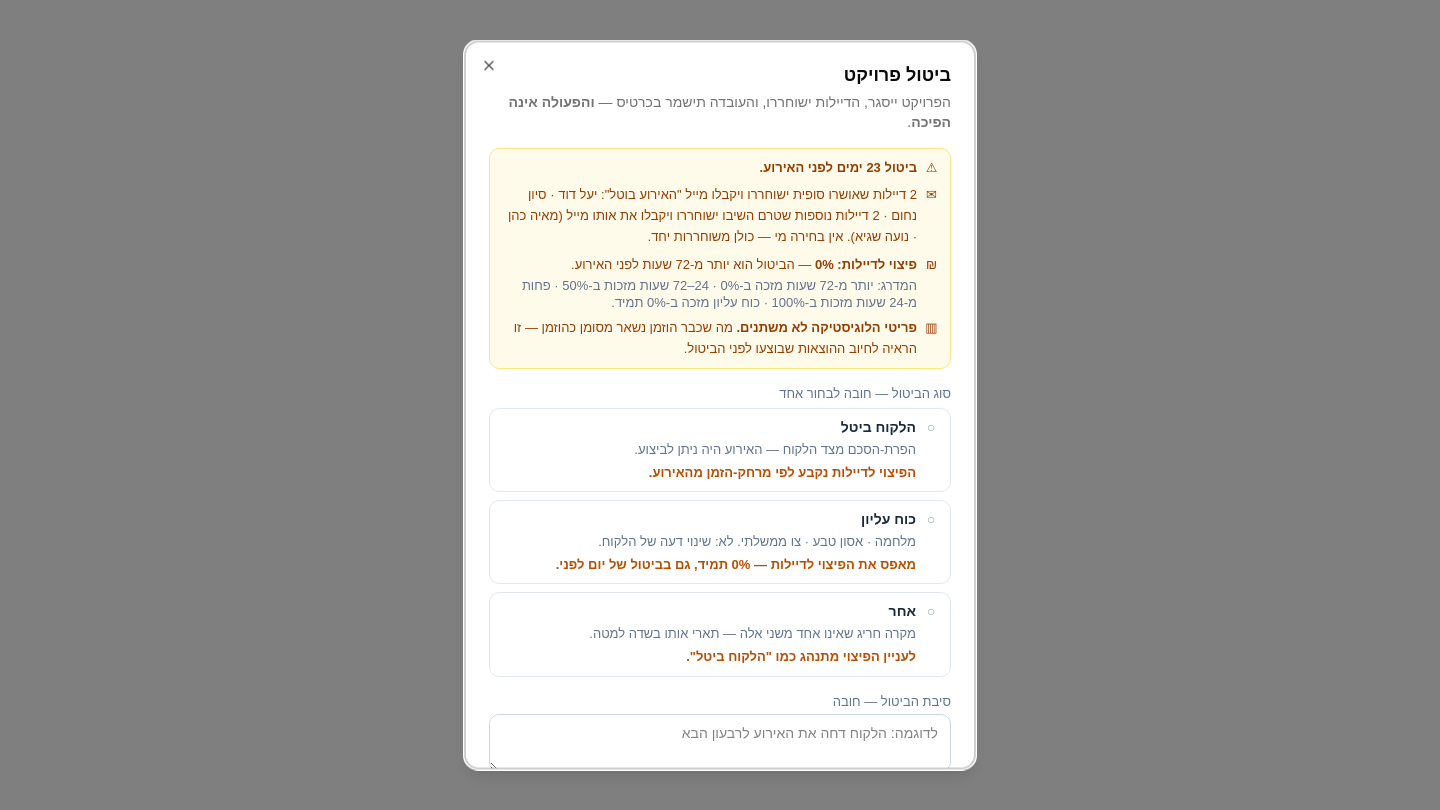
CancelProjectDialog — שלושת הסוגים והוולידציה › כוח-עליון נבחר ⇒ שורת-הפיצוי מתחלפת לנימוק-האיפוס
The width and height of the screenshot is (1440, 810).
Click the radio button with test id "cancel-type-force_majeure" at (720, 542), box [489,500,951,584]
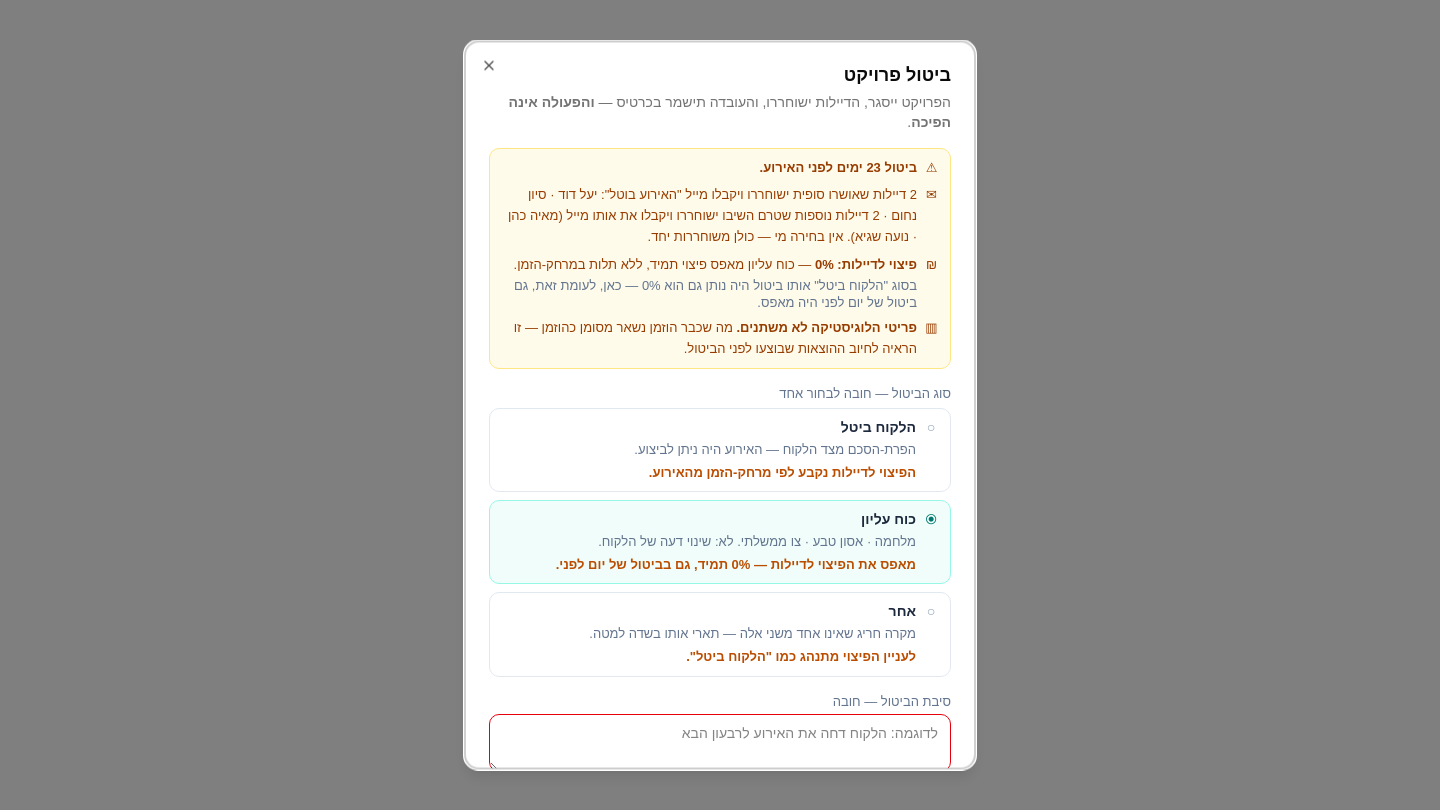
Check: the element with test id "cancel-banner" shows "כוח עליון מאפס פיצוי תמיד, ללא תלות במרחק-הזמן.", box [514,256,795,271]
